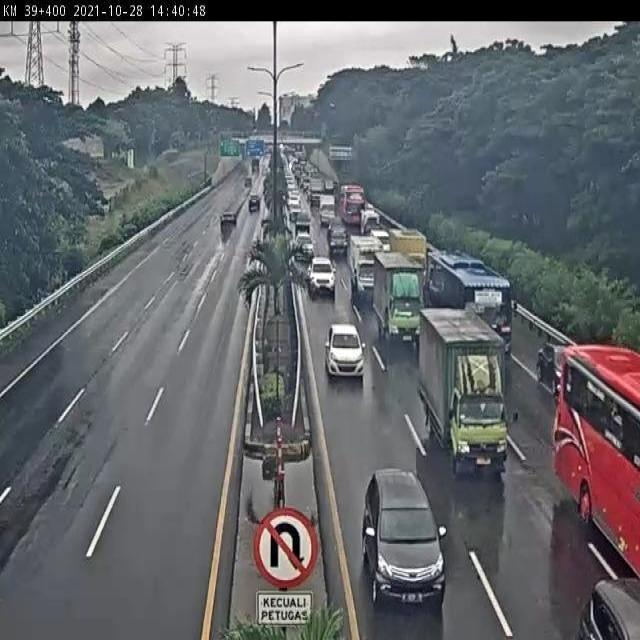Bus: (551, 339, 640, 579), (341, 186, 364, 224)
Car: (365, 466, 451, 606), (575, 575, 640, 638), (324, 322, 365, 381), (538, 343, 568, 393), (307, 256, 336, 299), (328, 224, 348, 256), (294, 233, 314, 262), (220, 206, 236, 234), (248, 193, 260, 212)
Truck: (420, 307, 508, 473), (425, 247, 512, 350), (371, 254, 422, 343), (349, 234, 383, 303), (388, 230, 429, 270), (424, 246, 448, 299), (360, 207, 380, 236), (318, 197, 336, 227), (246, 256, 266, 282), (369, 228, 391, 251), (294, 210, 312, 238), (331, 145, 355, 166), (284, 166, 298, 201), (308, 178, 325, 206), (282, 130, 320, 141), (259, 150, 273, 178), (262, 455, 278, 479), (274, 187, 286, 218), (288, 253, 301, 281), (247, 138, 265, 158), (348, 260, 356, 302), (288, 190, 302, 212), (303, 260, 313, 288), (320, 111, 329, 142), (291, 160, 303, 183), (267, 154, 279, 176), (250, 237, 261, 260), (293, 146, 305, 166), (282, 146, 294, 166), (306, 164, 318, 184), (308, 275, 318, 298), (288, 205, 300, 223), (253, 335, 261, 361), (323, 179, 335, 196), (261, 210, 271, 230), (276, 137, 292, 149), (288, 155, 298, 172), (265, 142, 275, 157), (238, 140, 246, 158), (363, 202, 375, 214), (262, 196, 268, 219), (302, 175, 310, 192), (251, 158, 259, 175), (332, 180, 340, 197), (245, 168, 253, 182), (245, 176, 251, 187), (251, 128, 257, 137)
